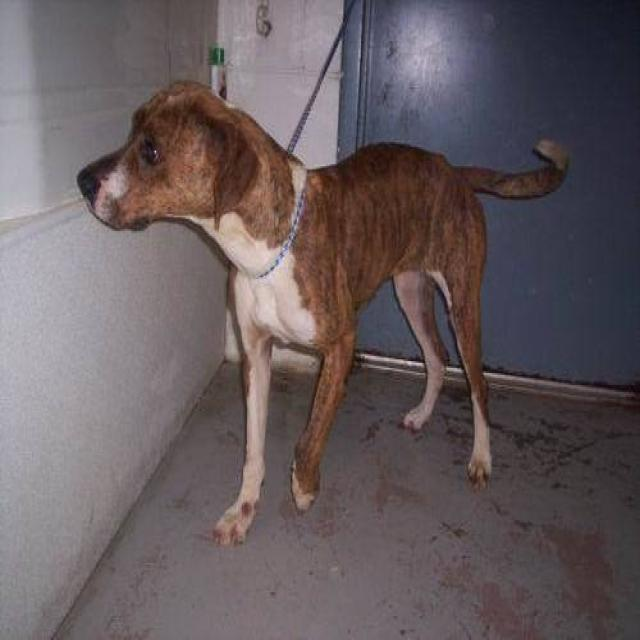dog: (76, 77, 568, 548)
